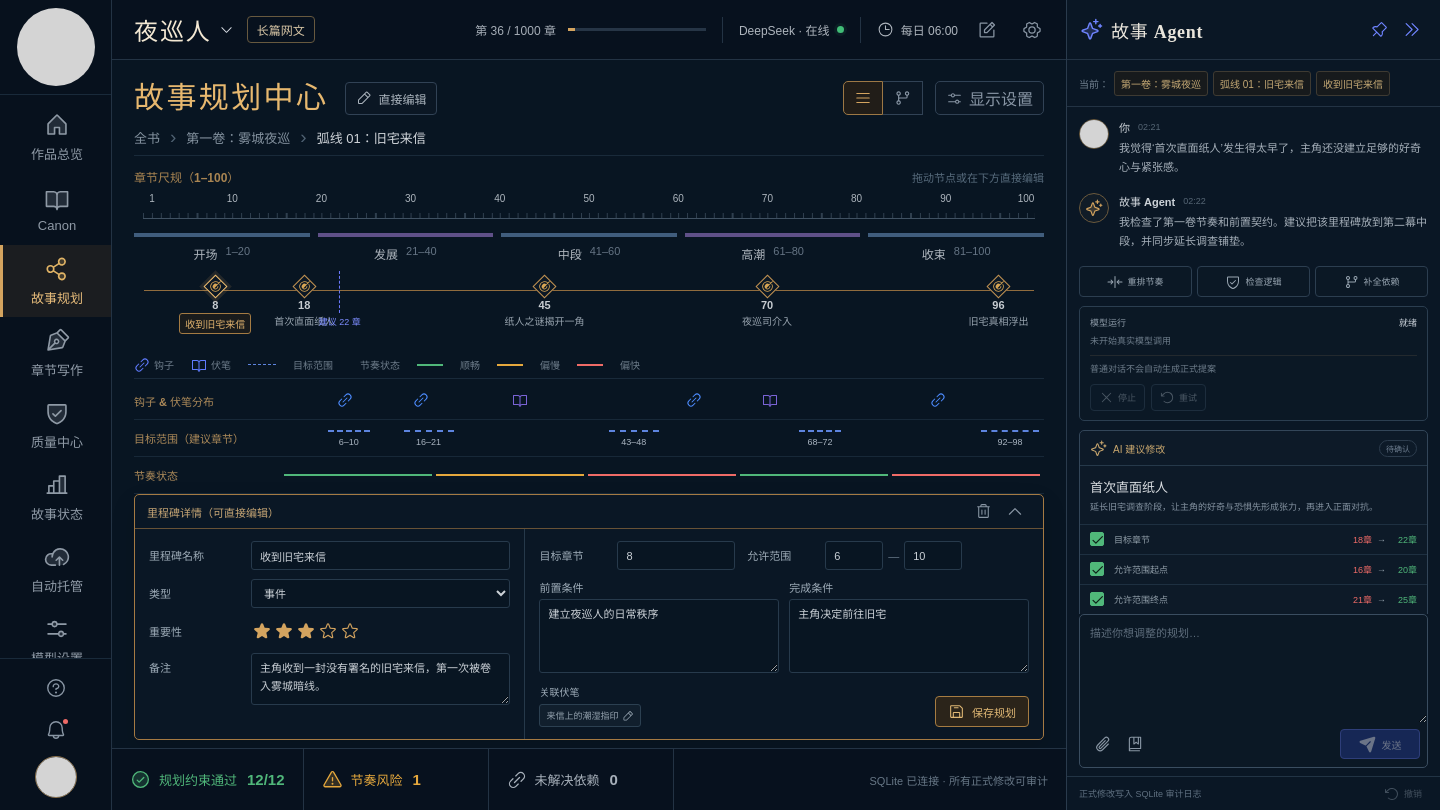
Test: Story Agent shell › keeps the Agent panel while navigating between modules
This screenshot has width=1440, height=810.
Expected: the heading "故事规划中心" is shown, [134,80,328,116]
Expected: the element "故事 Agent" is shown, [1066,0,1439,809]
Click the link "Canon".
click(57, 209)  # box [38,186,76,233]
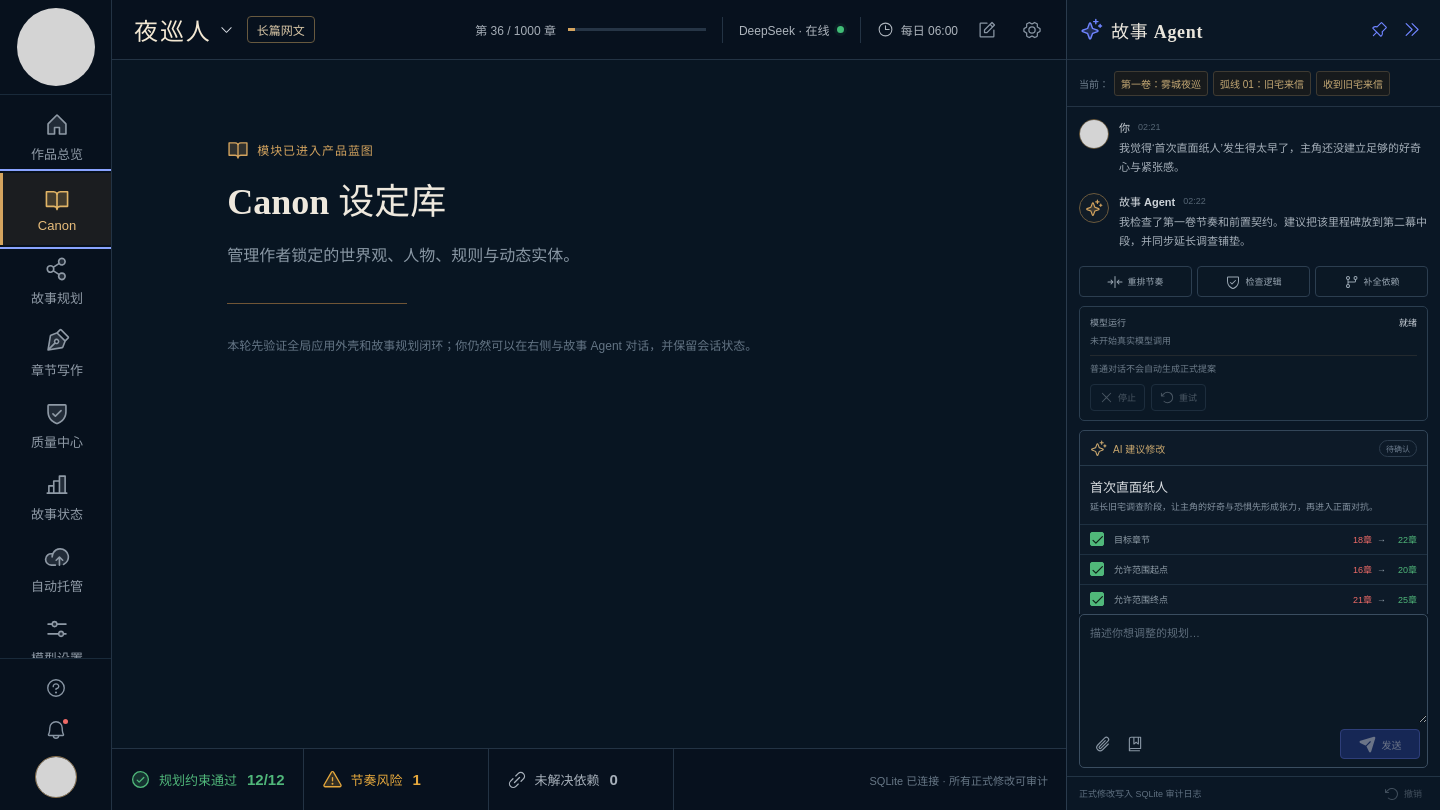
Expected: the element "故事 Agent" is shown, [1066,0,1439,809]
Now the heading "Canon 设定库" is shown, box [227,182,446,222]
